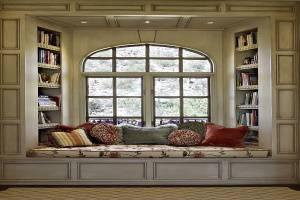window: (83, 42, 211, 130)
